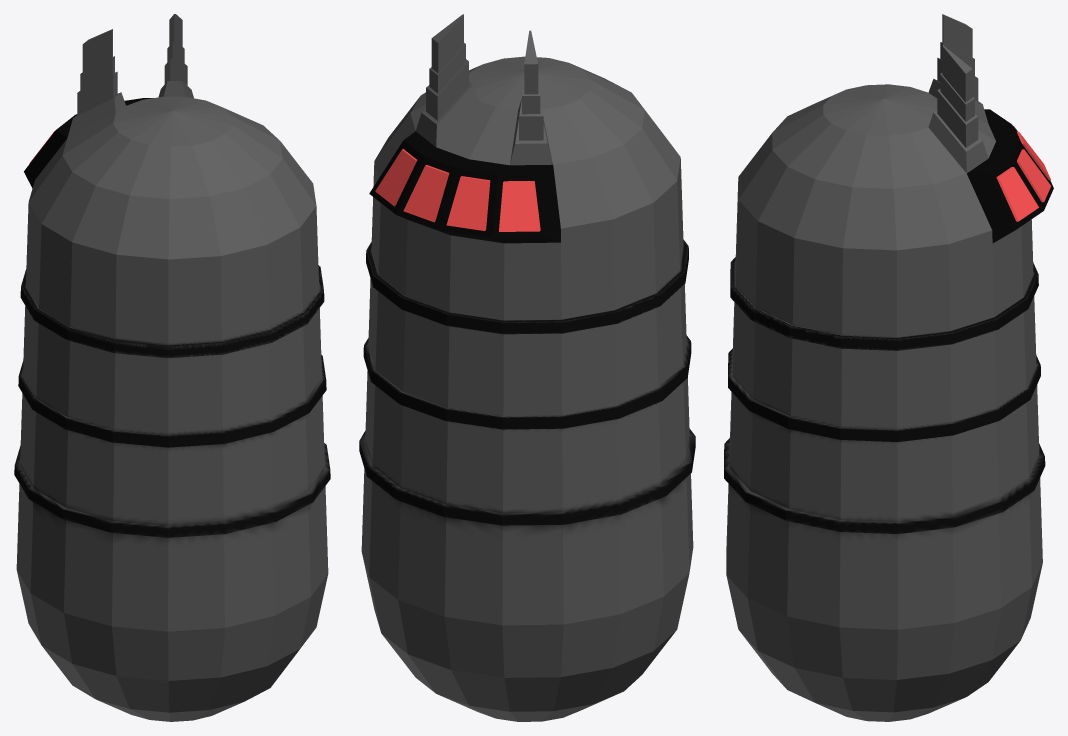
Rendered from Fast.fbx.
3 renders of one model, left to right at view 1: azimuth 30°, elevation 25°; view 2: azimuth 150°, elevation 25°; view 3: azimuth 270°, elevation 25°, orthographic. The views are drawn at different scales.
Visible parts, largest first — view 1: Fast_Enemy; view 2: Fast_Enemy; view 3: Fast_Enemy.
Boxes of the visible parts, bbox=[...] form: Fast_Enemy: bbox=[14, 14, 330, 721]; Fast_Enemy: bbox=[359, 14, 695, 721]; Fast_Enemy: bbox=[724, 14, 1053, 721].
Size of the model in its own units: 331 by 768 by 339.
